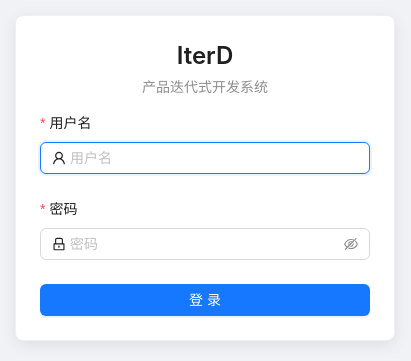
it: LoginPage 登录表单 › 空表单提交触发必填校验，不发请求
What coordinates should you click on to do the following:
click the button "登 录"
I would click on:
 (205, 300)
Its box is [40,284,370,316].
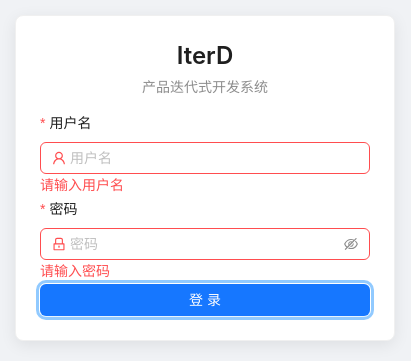
Check: the text "请输入用户名" is shown, box [40,176,124,193]
Check: the text "请输入密码" is shown, box [40,262,110,279]
